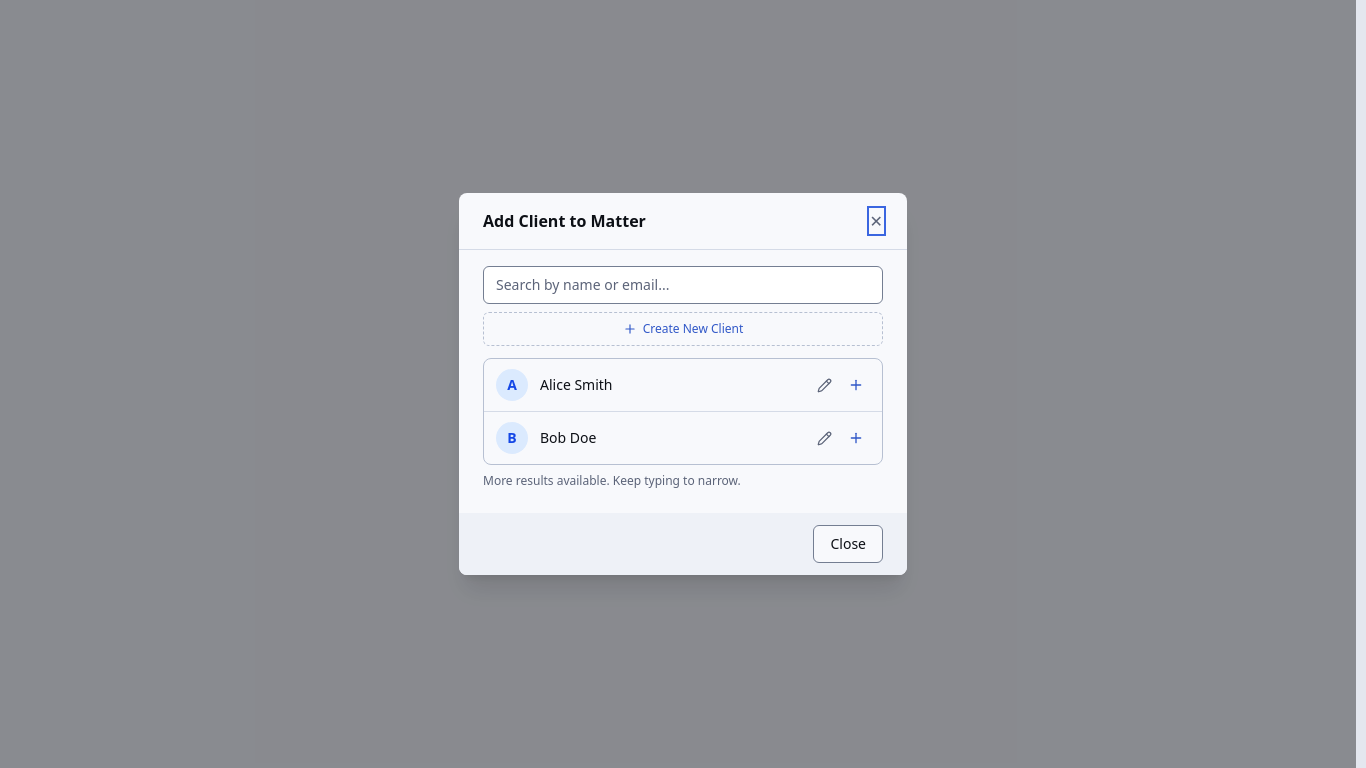
AddClientModal existing-client search › switches to the truncated-matches wording once a search term is typed
Type "smith" into the field with placeholder "Search by name or email..." at (683, 285), box [483,266,883,304]
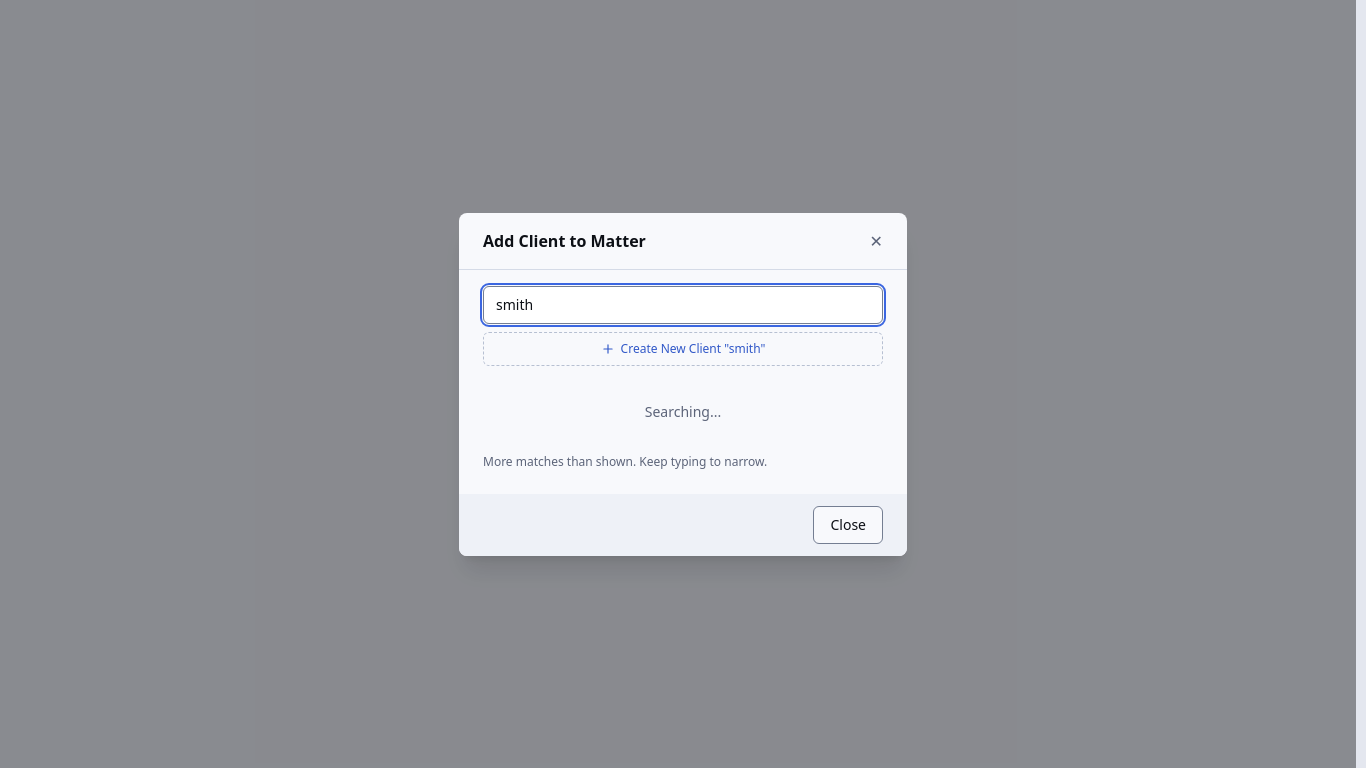
Expected: the text "More matches than shown. Keep typing to narrow." is shown, [483,452,767,470]
